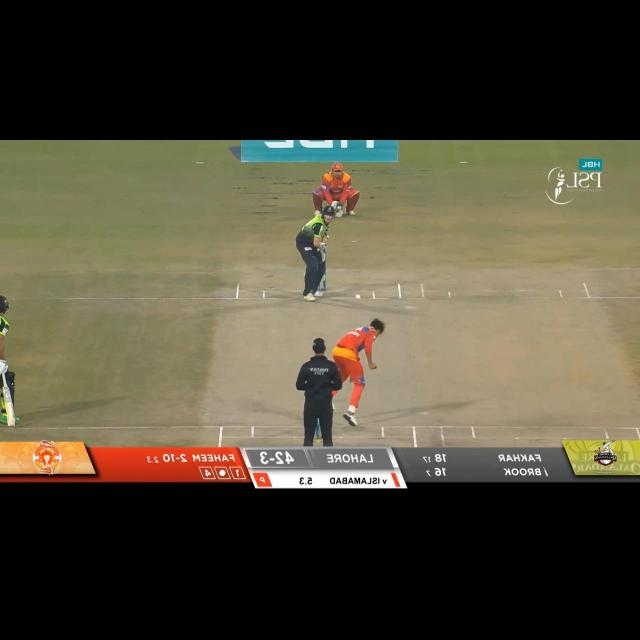bat: (2, 388, 18, 430), (329, 200, 339, 210)
toe: (5, 418, 18, 428), (332, 201, 338, 207)
